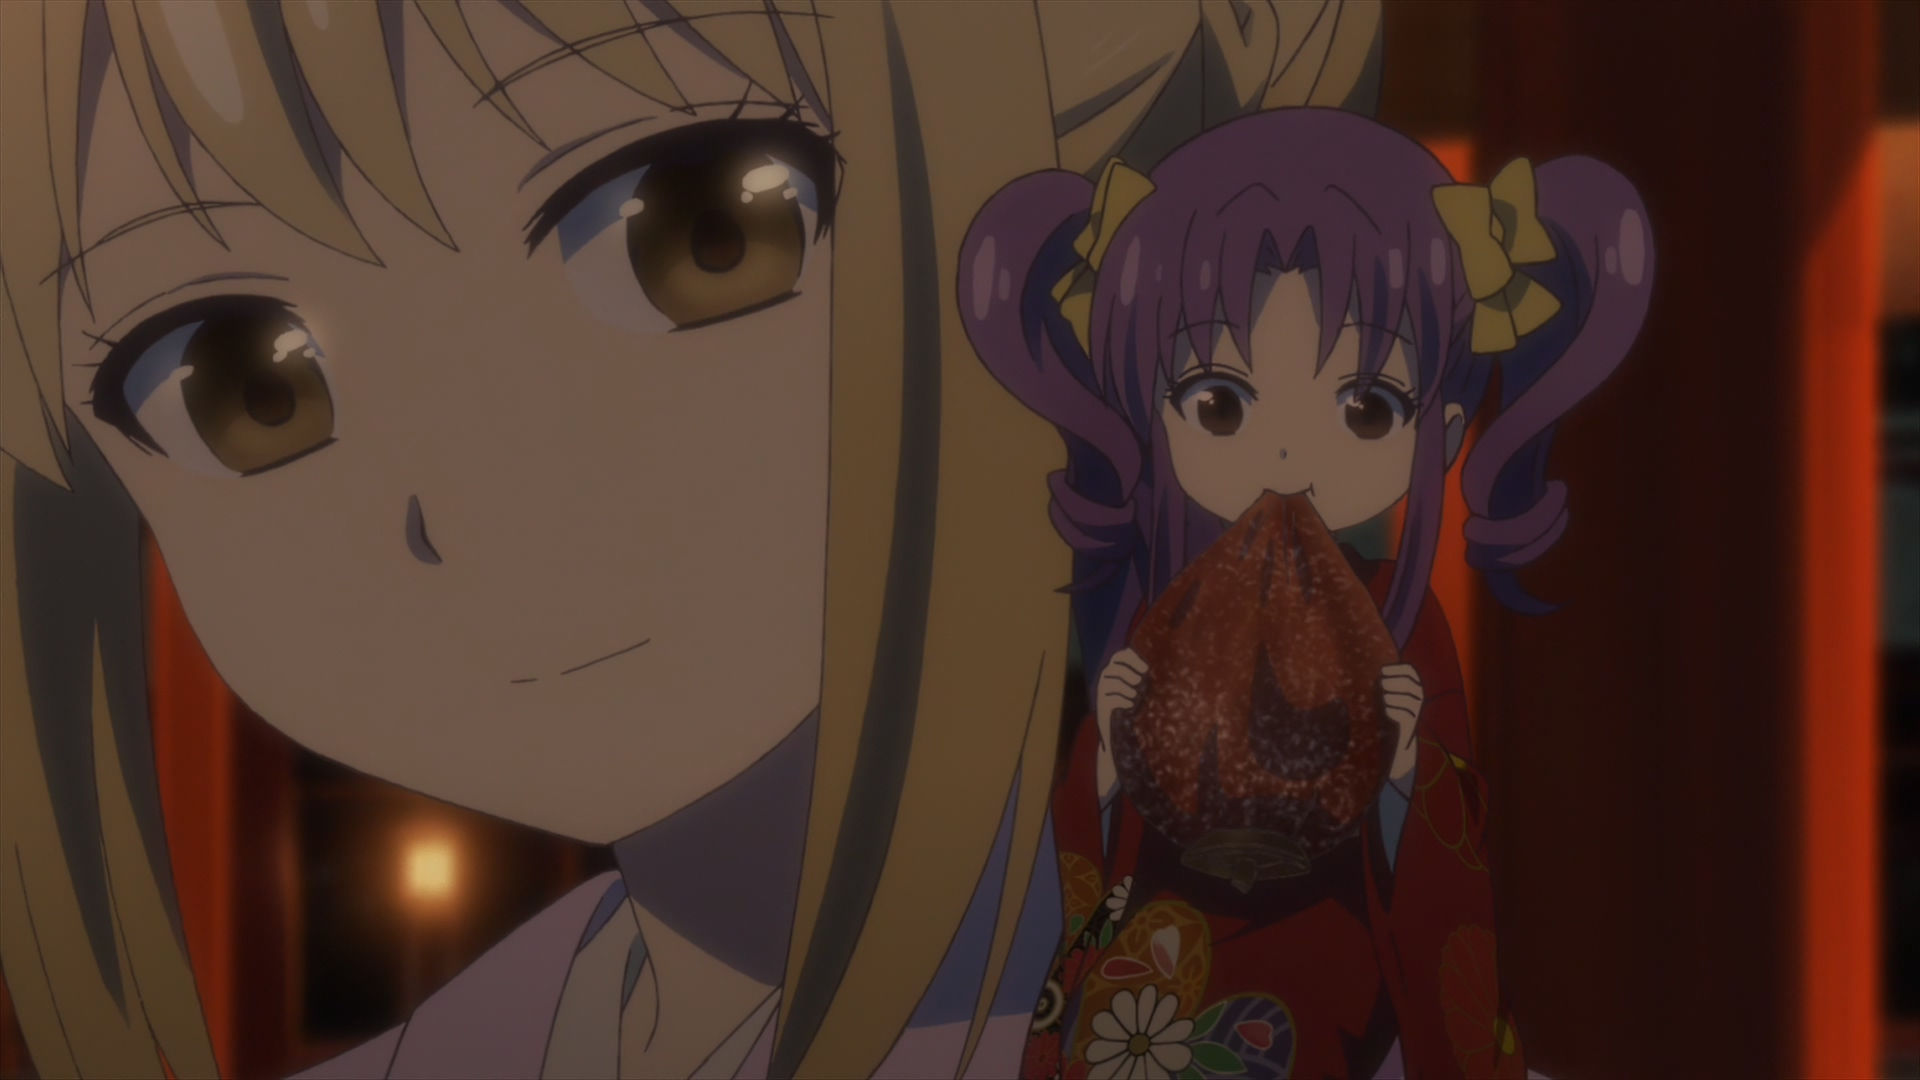桐: (1, 1, 1387, 1080)
阿菊: (955, 109, 1658, 1080)
